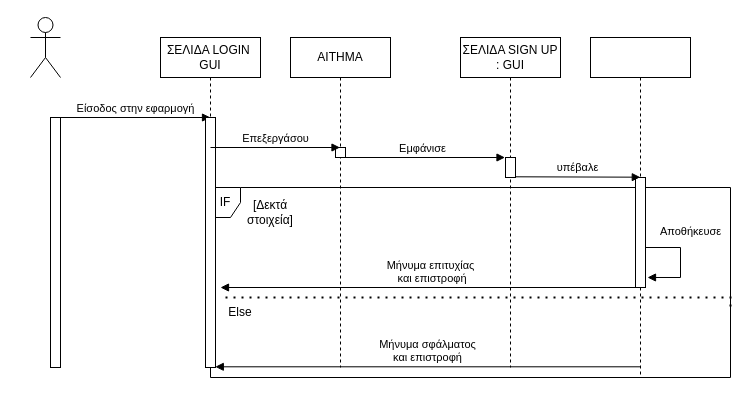
This 750x395 diagram has some shape labels left out. Each missing label, with the centre of its shape:
"ΣΤΟΙΧΕΙΑ" goes at [640,207].
"ΧΡΗΣΤΗΣ" goes at [45,47].
